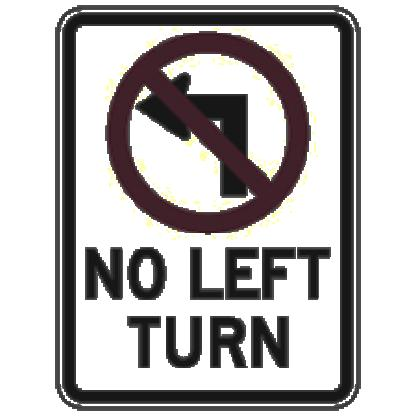No left turn: (98, 32, 310, 238)
